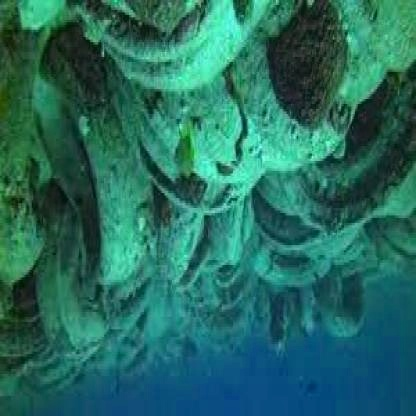tire: (183, 136, 345, 300), (51, 114, 143, 369), (222, 20, 335, 183)
